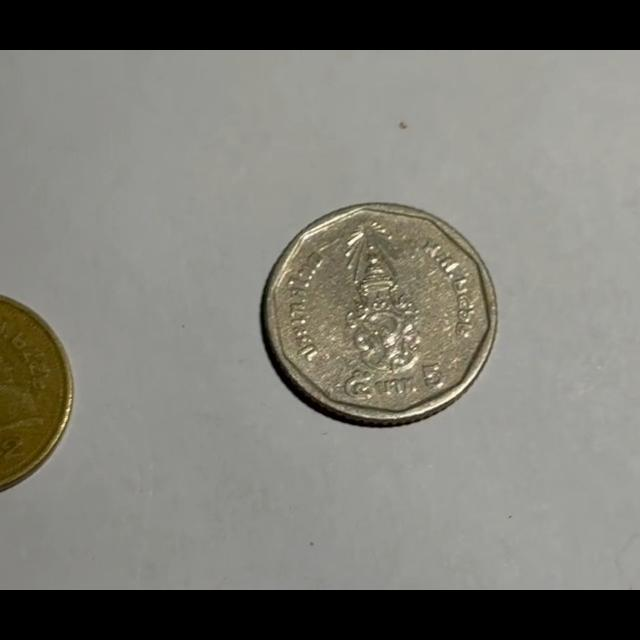2-baht: (0, 290, 72, 500)
5-baht: (262, 202, 498, 425)
